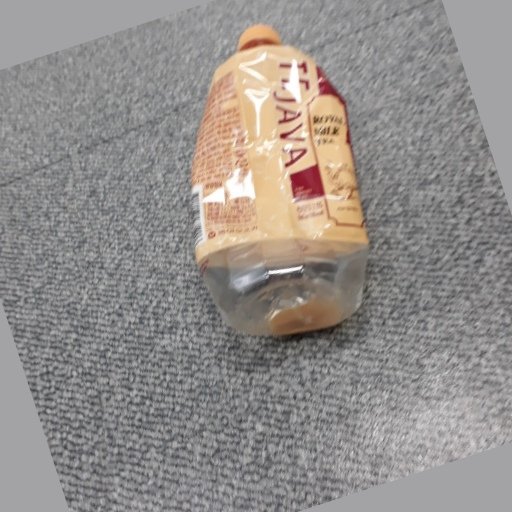Plastic_0: (192, 23, 372, 350)
